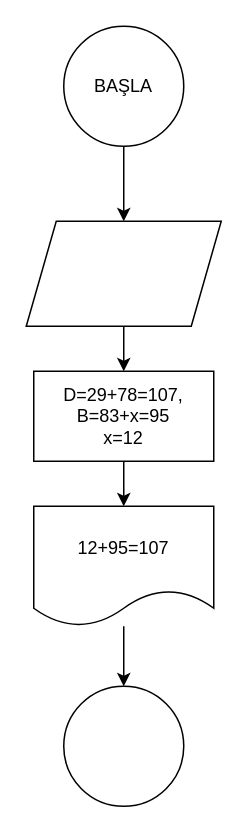
This 248x833 diagram has some shape labels left out. Each missing label, with the centre of its shape:
"Defne,burcu,hesap makinesi,29+xy" goes at point (123, 273).
"DUR" goes at point (123, 745).
